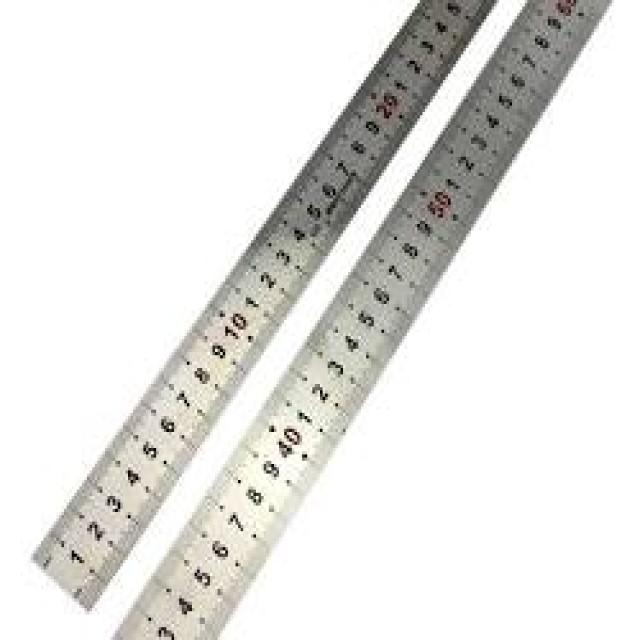alat_tulis: (101, 78, 569, 592)
